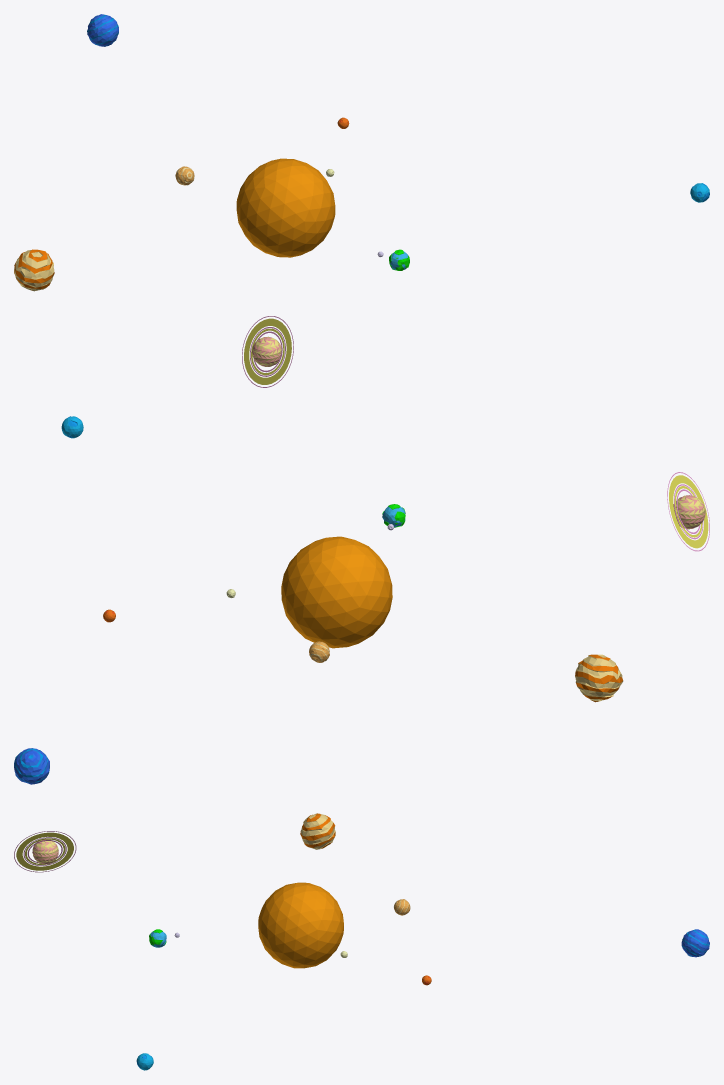
File: spacev2.glb
The picture shows the model from 3 angles, top to bottom: view 1: azimuth 30°, elevation 25°; view 2: azimuth 150°, elevation 25°; view 3: azimuth 270°, elevation 25°; orthographic projection. The views are drawn at different scales.
Visible parts, largest first — view 1: Sun_Icosphere.012, SaturnsRings_Circle, Jupiter_Icosphere.006, Neptune_Icosphere.010, Saturn_Icosphere.007; view 2: Sun_Icosphere.012, Jupiter_Icosphere.006, SaturnsRings_Circle, Neptune_Icosphere.010, Saturn_Icosphere.007; view 3: Sun_Icosphere.012, SaturnsRings_Circle, Jupiter_Icosphere.006, Neptune_Icosphere.010, Saturn_Icosphere.007.
Part boxes in pixels (bbox=[...]): Sun_Icosphere.012: bbox=[236, 158, 335, 257]; SaturnsRings_Circle: bbox=[242, 316, 293, 387]; Jupiter_Icosphere.006: bbox=[14, 249, 54, 291]; Neptune_Icosphere.010: bbox=[87, 14, 118, 46]; Saturn_Icosphere.007: bbox=[252, 336, 282, 366]; Sun_Icosphere.012: bbox=[281, 536, 392, 648]; Jupiter_Icosphere.006: bbox=[575, 654, 623, 702]; SaturnsRings_Circle: bbox=[667, 472, 709, 551]; Neptune_Icosphere.010: bbox=[14, 748, 49, 784]; Saturn_Icosphere.007: bbox=[673, 495, 705, 529]; Sun_Icosphere.012: bbox=[258, 882, 343, 968]; SaturnsRings_Circle: bbox=[14, 831, 76, 872]; Jupiter_Icosphere.006: bbox=[300, 813, 335, 849]; Neptune_Icosphere.010: bbox=[681, 929, 709, 957]; Saturn_Icosphere.007: bbox=[32, 839, 58, 864].
Bounding box in the file's own units: 65.13 × 9.35 × 76.06.
